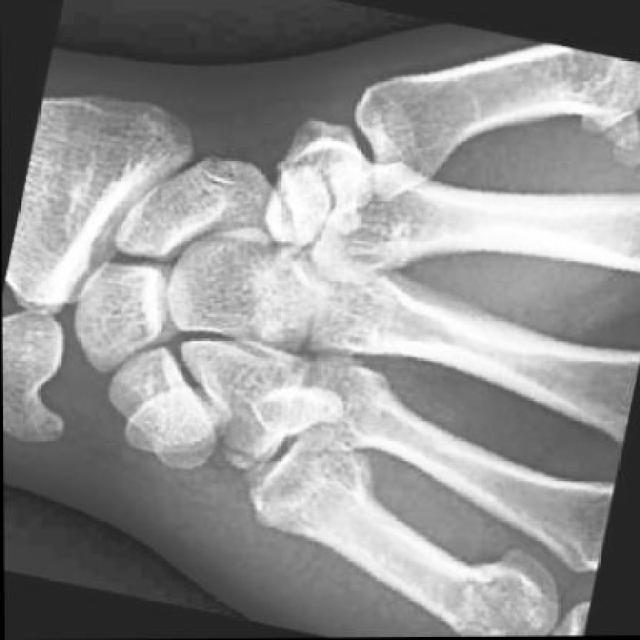Fracture: (205, 425, 279, 490)
